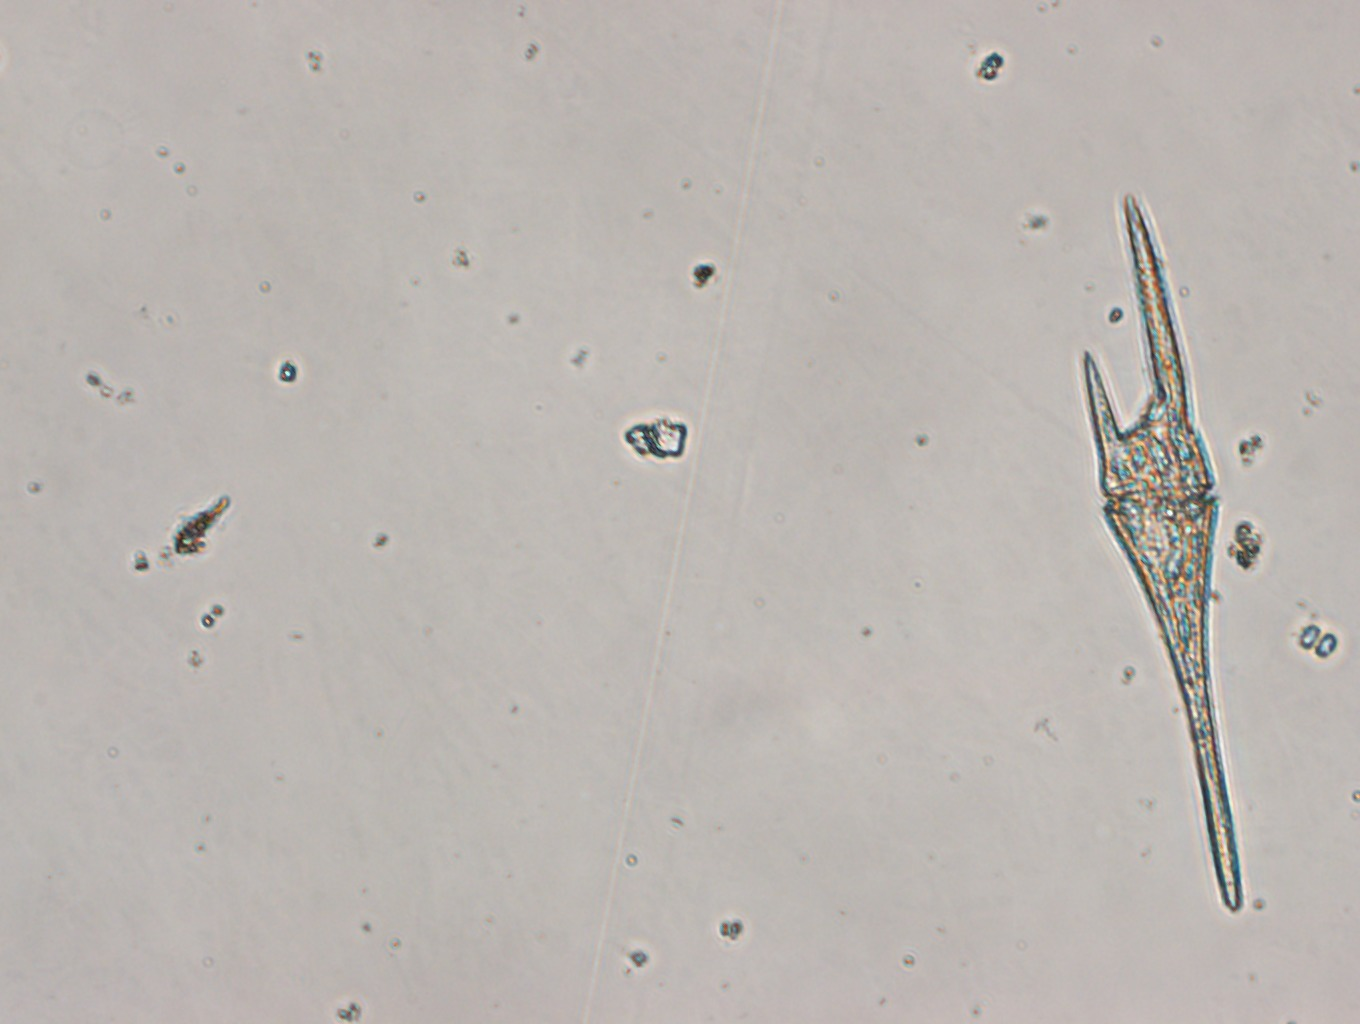ceratium furca: (1080, 195, 1249, 918)
